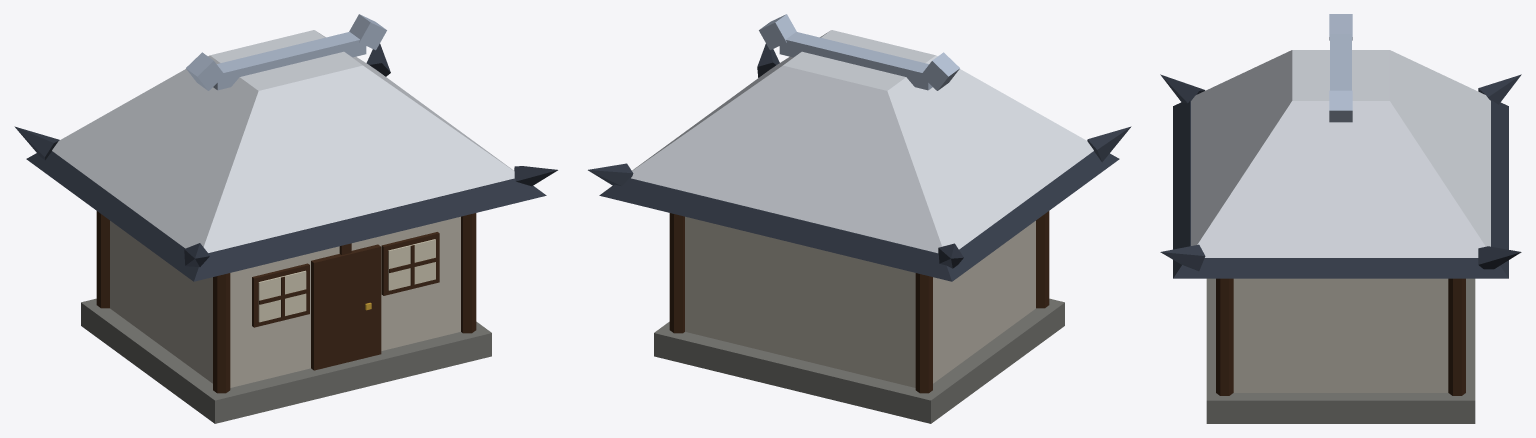
Rendered from SM_GZ_house_frost_2.fbx.
3 views of the same model, side by side, from view 1: azimuth 30°, elevation 25°; view 2: azimuth 150°, elevation 25°; view 3: azimuth 270°, elevation 25° (orthographic).
Parts seen in each view (by area): view 1: SM_GZ_house_frost_2; view 2: SM_GZ_house_frost_2; view 3: SM_GZ_house_frost_2.
Part boxes in pixels (left/top/right/bottom): SM_GZ_house_frost_2: left=14, top=14, right=557, bottom=423; SM_GZ_house_frost_2: left=588, top=14, right=1131, bottom=423; SM_GZ_house_frost_2: left=1160, top=14, right=1521, bottom=423.
Bounding box in the file's own units: 814 × 649 × 700.
